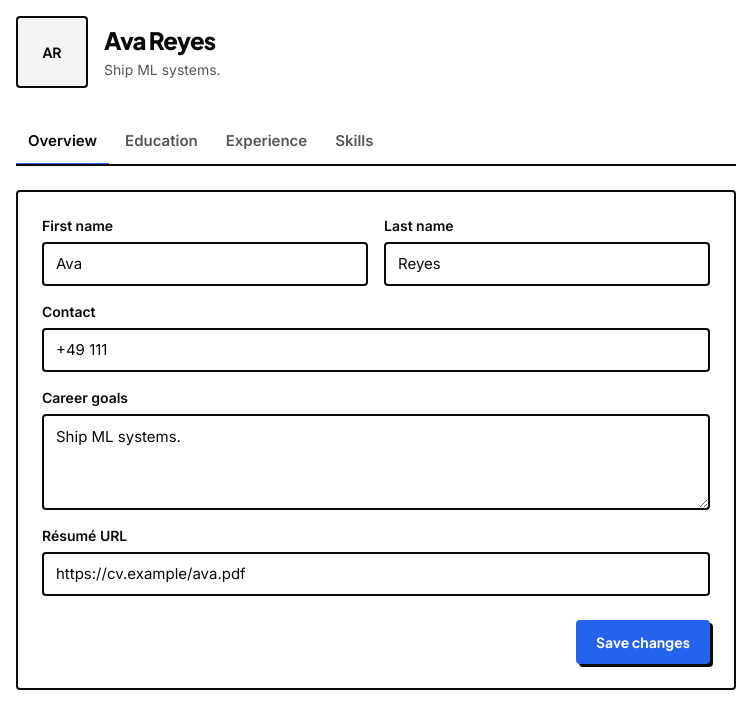
it: SeekerProfilePage › lists education with the formatted date range
The width and height of the screenshot is (753, 707).
Click the tab "Education".
click(161, 143)  # box x1=113 y1=120 x2=210 y2=166
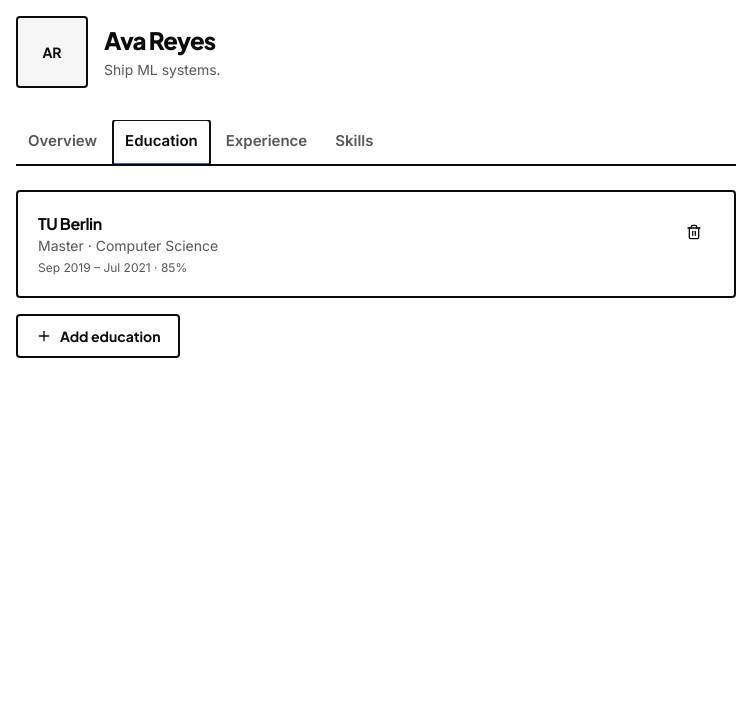
Check: the text "TU Berlin" is shown, box x1=38 y1=212 x2=102 y2=234
Check: the text "Sep 2019 – Jul 2021 · 85%" is shown, box x1=38 y1=260 x2=187 y2=274
